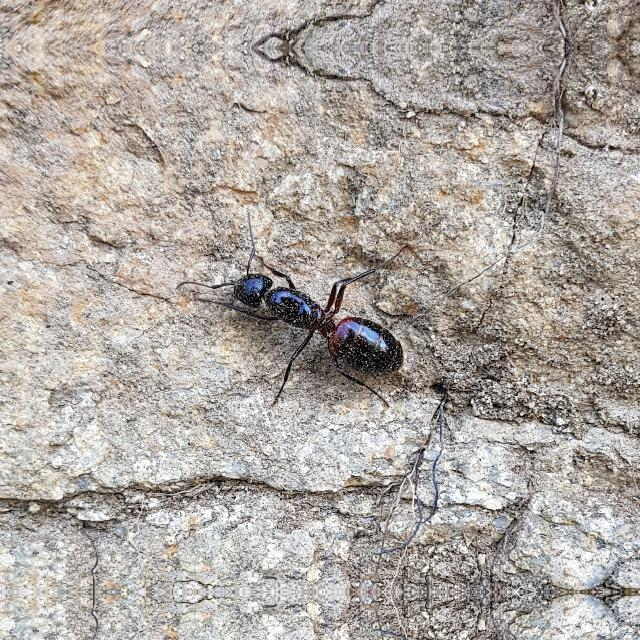Camponotus: (206, 242, 427, 396)
